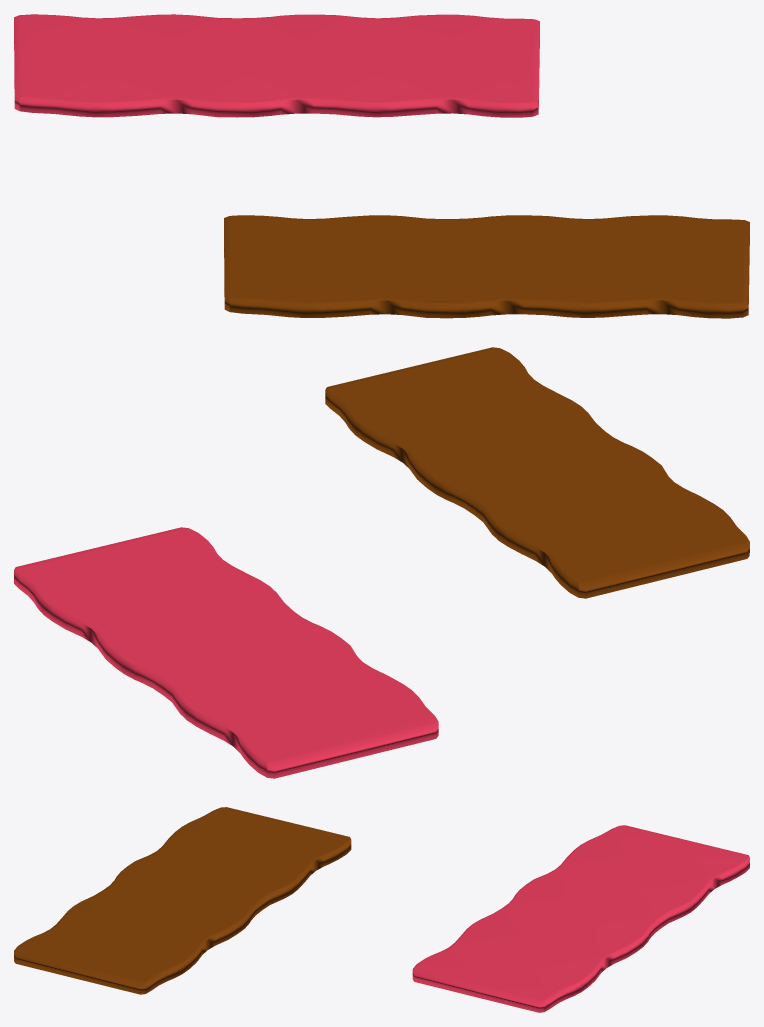
The model's file is Bacon.fbx.
3 renders of one model, top to bottom at view 1: azimuth 30°, elevation 25°; view 2: azimuth 150°, elevation 25°; view 3: azimuth 270°, elevation 25°, orthographic. The views are drawn at different scales.
Visible parts, largest first — view 1: Cube.012, Cube.010; view 2: Cube.012, Cube.010; view 3: Cube.012, Cube.010.
Part boxes in pixels (x1=…): Cube.012: x1=14, y1=14, x2=539, y2=117; Cube.010: x1=224, y1=215, x2=749, y2=318; Cube.012: x1=14, y1=527, x2=438, y2=778; Cube.010: x1=325, y1=347, x2=749, y2=598; Cube.012: x1=412, y1=825, x2=749, y2=1012; Cube.010: x1=14, y1=807, x2=351, y2=994.
Bounding box in the file's own units: 58.33 × 1.6 × 92.98.
